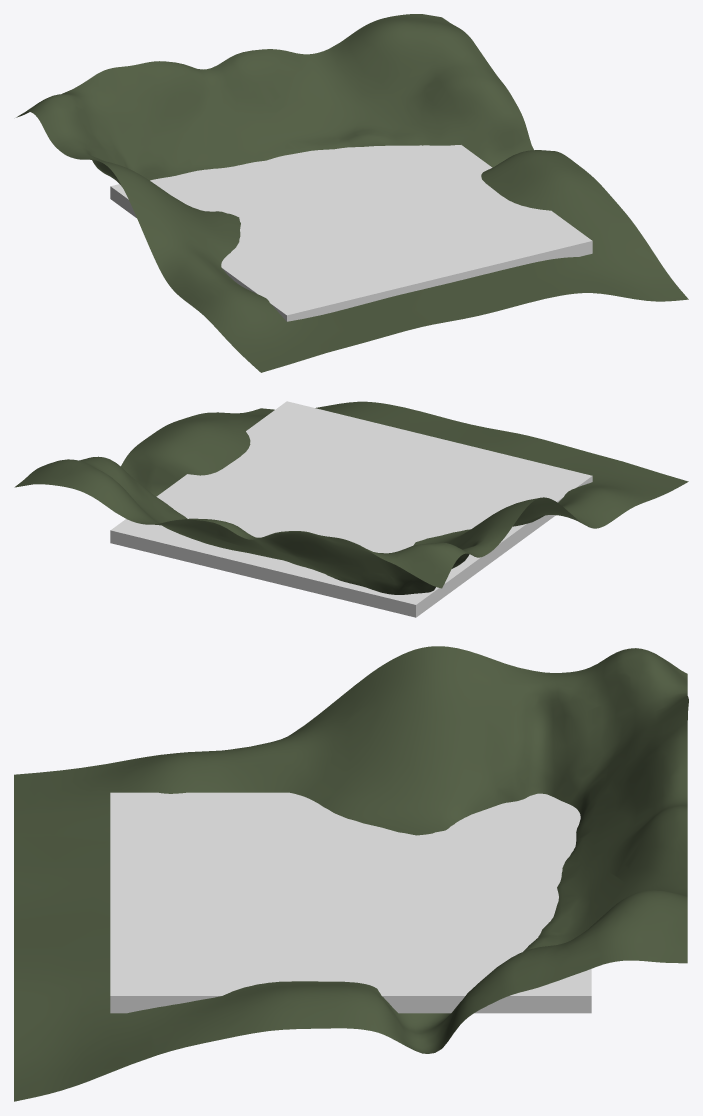
File: landscape_test.glb
The picture shows the model from 3 angles, top to bottom: view 1: azimuth 30°, elevation 25°; view 2: azimuth 150°, elevation 25°; view 3: azimuth 270°, elevation 25°; orthographic projection. The views are drawn at different scales.
Parts seen in each view (by area): view 1: Landscape, 25m-noimp; view 2: 25m-noimp, Landscape; view 3: Landscape, 25m-noimp.
Boxes of the visible parts, <box> form: Landscape: <box>16,14,688,372</box>; 25m-noimp: <box>110,145,592,321</box>; 25m-noimp: <box>110,401,592,617</box>; Landscape: <box>14,401,688,594</box>; Landscape: <box>14,646,688,1101</box>; 25m-noimp: <box>110,792,591,1013</box>.
Size of what is drawn, in the model's own units: 35.01 by 10.25 by 35.06.
